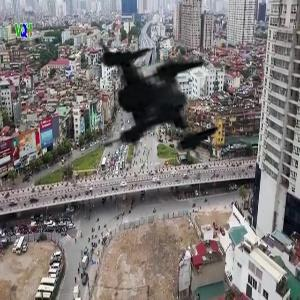drone: (29, 1, 242, 214)
